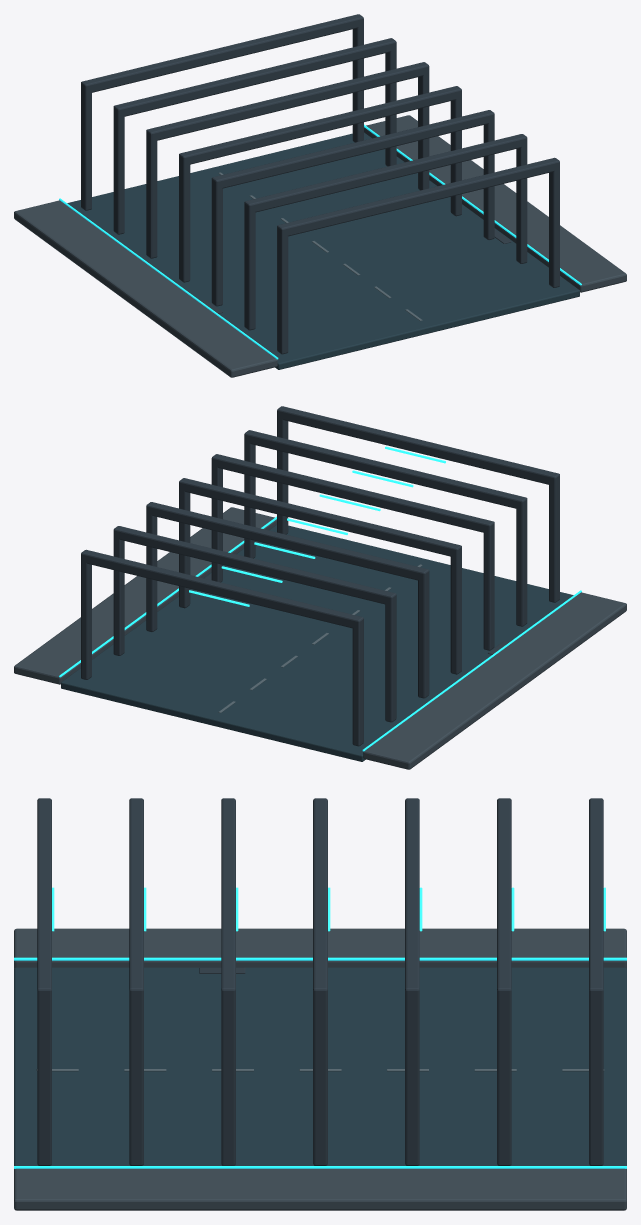
Rendered from tunnel_lod0.glb.
3 renders of one model, top to bottom at view 1: azimuth 30°, elevation 25°; view 2: azimuth 150°, elevation 25°; view 3: azimuth 270°, elevation 25°, orthographic. The views are drawn at different scales.
Visible parts, largest first — view 1: ND_Batch_ND_WetAsphalt, ND_Batch_ND_RooftopMetal, ND_Batch_ND_RoadEdge, ND_Batch_ND_CityCyanMuted; view 2: ND_Batch_ND_WetAsphalt, ND_Batch_ND_RooftopMetal, ND_Batch_ND_RoadEdge, ND_Batch_ND_RouteCyan, ND_Batch_ND_CityCyanMuted; view 3: ND_Batch_ND_WetAsphalt, ND_Batch_ND_RoadEdge, ND_Batch_ND_RooftopMetal, ND_Batch_ND_CityCyanMuted, ND_Batch_ND_RouteCyan, ND_Batch_ND_CityConcreteLight.
Part boxes in pixels (left/top/right/bottom): ND_Batch_ND_WetAsphalt: left=67, top=132, right=579, bottom=369; ND_Batch_ND_RooftopMetal: left=81, top=14, right=559, bottom=354; ND_Batch_ND_RoadEdge: left=14, top=115, right=626, bottom=377; ND_Batch_ND_CityCyanMuted: left=59, top=124, right=581, bottom=359; ND_Batch_ND_WetAsphalt: left=61, top=524, right=573, bottom=761; ND_Batch_ND_RooftopMetal: left=81, top=406, right=559, bottom=746; ND_Batch_ND_RoadEdge: left=14, top=507, right=626, bottom=769; ND_Batch_ND_RouteCyan: left=189, top=446, right=445, bottom=606; ND_Batch_ND_CityCyanMuted: left=59, top=516, right=581, bottom=751; ND_Batch_ND_WetAsphalt: left=14, top=967, right=626, bottom=1169; ND_Batch_ND_RoadEdge: left=14, top=928, right=626, bottom=1210; ND_Batch_ND_RooftopMetal: left=37, top=798, right=603, bottom=1165; ND_Batch_ND_CityCyanMuted: left=14, top=957, right=626, bottom=1168; ND_Batch_ND_RouteCyan: left=52, top=887, right=605, bottom=931; ND_Batch_ND_CityConcreteLight: left=36, top=1069, right=604, bottom=1071.
Bounding box in the file's own units: 21 × 6.73 × 20.
